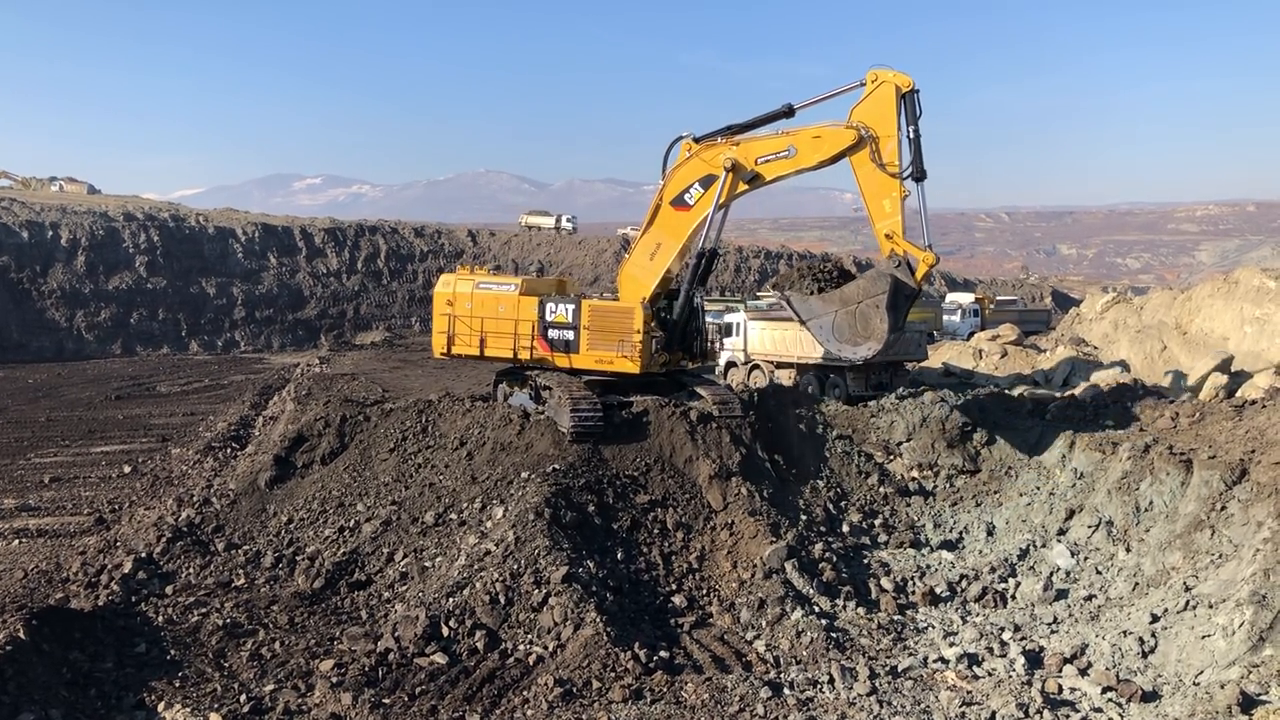full: (766, 254, 927, 369)
